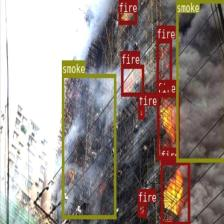fire: (160, 160, 190, 224), (156, 92, 179, 159), (120, 64, 144, 96), (156, 38, 171, 89), (118, 0, 136, 23), (137, 202, 147, 217), (138, 106, 144, 118)
smoke: (61, 73, 116, 218), (175, 0, 224, 161)
